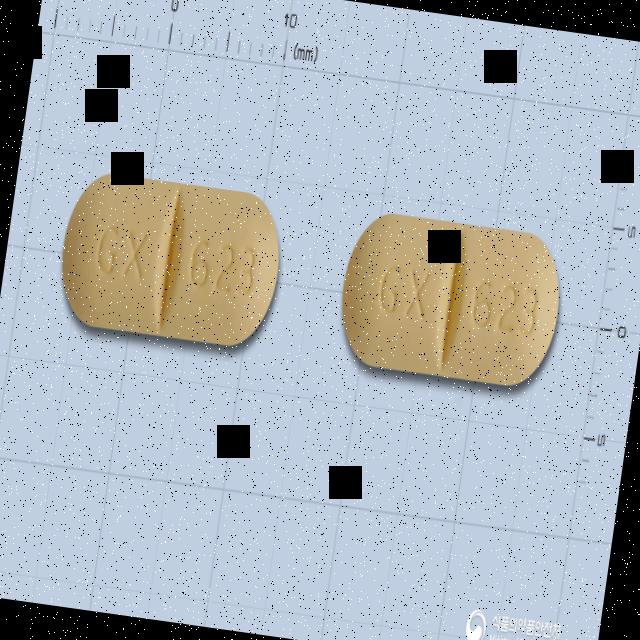Ziagen Tab: (53, 167, 290, 354), (332, 209, 570, 393)
